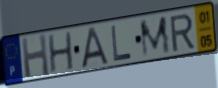A: (81, 26, 110, 70)
H: (20, 32, 51, 80), (47, 30, 76, 75)
L: (109, 25, 133, 64)
M: (138, 14, 172, 60)
R: (168, 12, 196, 54)
